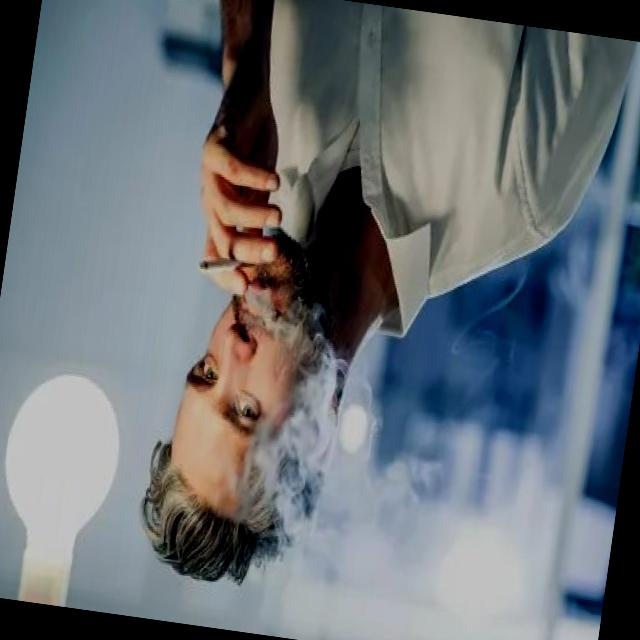cigarette: (196, 240, 250, 284)
